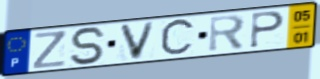C: (158, 16, 197, 60)
P: (248, 10, 286, 49)
R: (207, 13, 248, 54)
S: (68, 26, 109, 67)
V: (118, 20, 158, 61)
Z: (32, 29, 68, 71)
